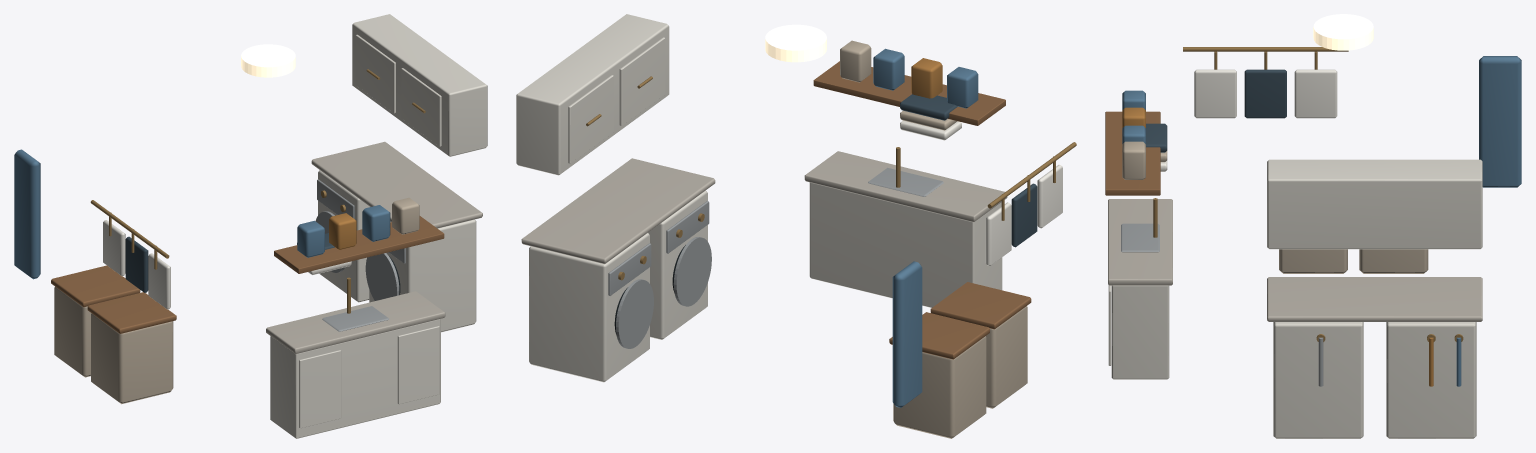
File: laundry-furniture-v002.glb
3 renders of one model, left to right at view 1: azimuth 30°, elevation 25°; view 2: azimuth 150°, elevation 25°; view 3: azimuth 270°, elevation 25°, orthographic. The views are drawn at different scales.
Parts seen in each view (by area): view 1: Export washer case; view 2: Export washer case; view 3: Export washer case.
Part boxes in pixels (left/top/right/bottom): Export washer case: left=14, top=14, right=487, bottom=438; Export washer case: left=516, top=14, right=1076, bottom=438; Export washer case: left=1105, top=14, right=1521, bottom=438.
Size of the model in its own units: 3.69 by 2.8 by 3.32.
